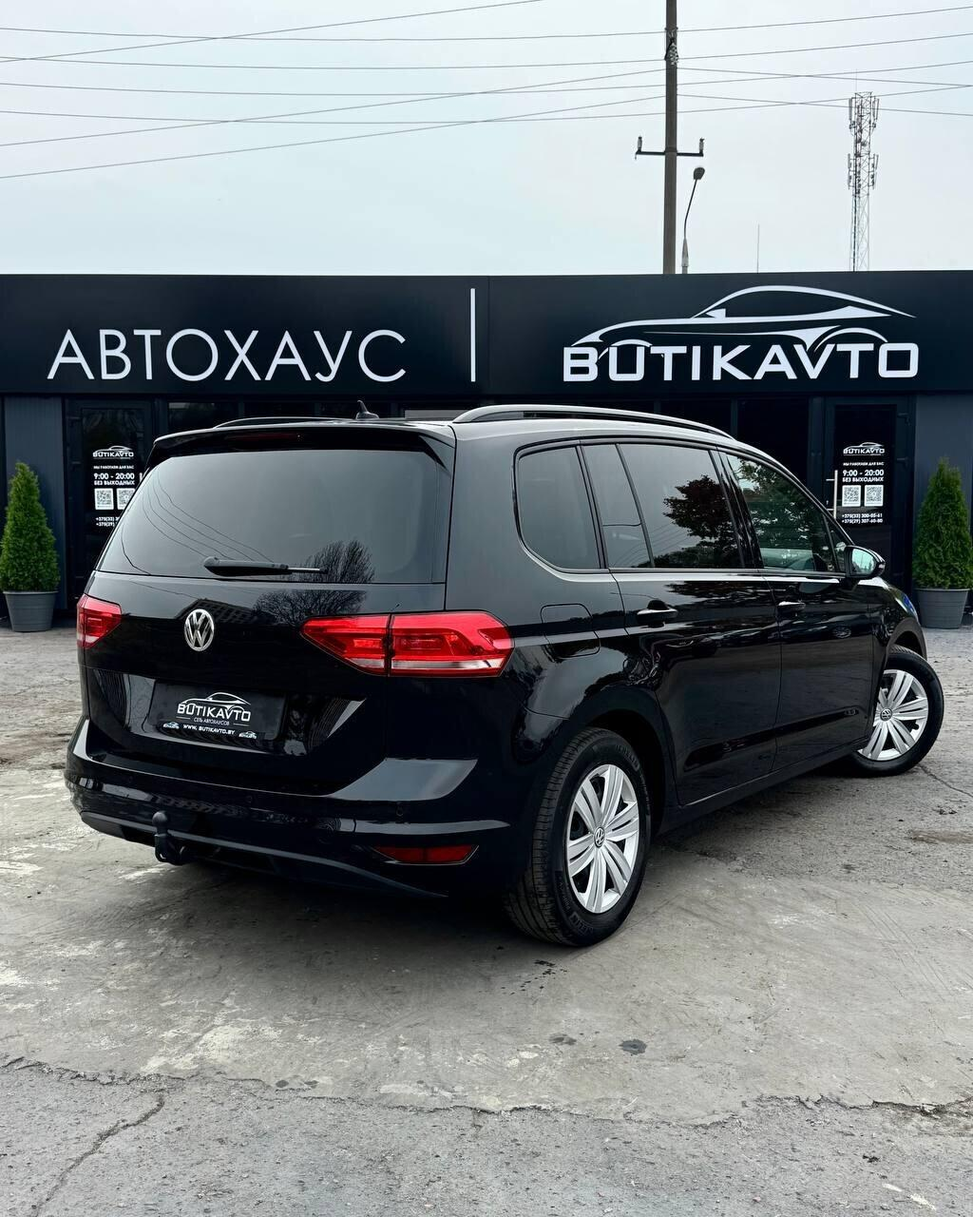Touran_2015: (59, 407, 936, 956)
